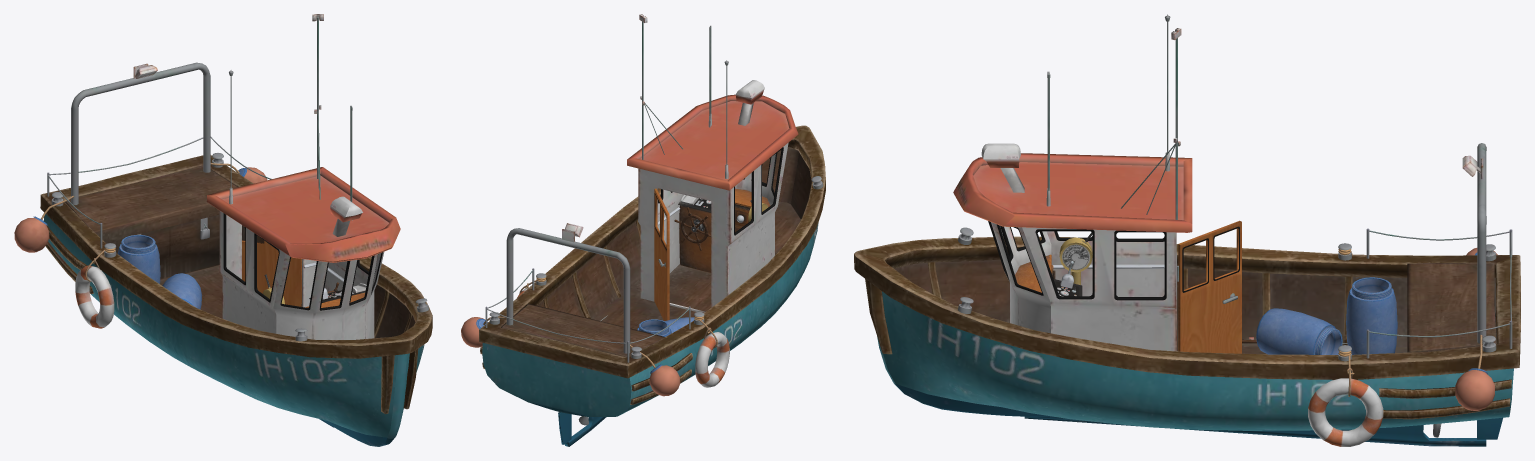
File: sf-fishship.glb
The picture shows the model from 3 angles, left to right: view 1: azimuth 30°, elevation 25°; view 2: azimuth 150°, elevation 25°; view 3: azimuth 270°, elevation 25°; orthographic projection. The views are drawn at different scales.
Visible parts, largest first — view 1: Sketchfab_Fishing_Ship_0, Sketchfab_Boat_Interior_0; view 2: Sketchfab_Fishing_Ship_0, Sketchfab_Boat_Interior_0; view 3: Sketchfab_Fishing_Ship_0, Sketchfab_Boat_Interior_0.
Part boxes in pixels (bbox=[...]): Sketchfab_Fishing_Ship_0: bbox=[40, 14, 432, 446]; Sketchfab_Boat_Interior_0: bbox=[14, 163, 366, 328]; Sketchfab_Fishing_Ship_0: bbox=[479, 14, 825, 446]; Sketchfab_Boat_Interior_0: bbox=[461, 188, 770, 396]; Sketchfab_Fishing_Ship_0: bbox=[854, 14, 1520, 446]; Sketchfab_Boat_Interior_0: bbox=[1015, 232, 1497, 446].
Bounding box in the file's own units: 422 × 619 × 848.
Materials: 3 (2 with a texture image).
